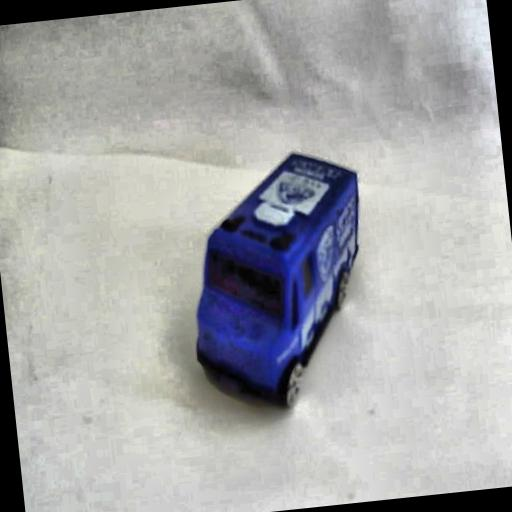police car: (172, 130, 384, 427)
